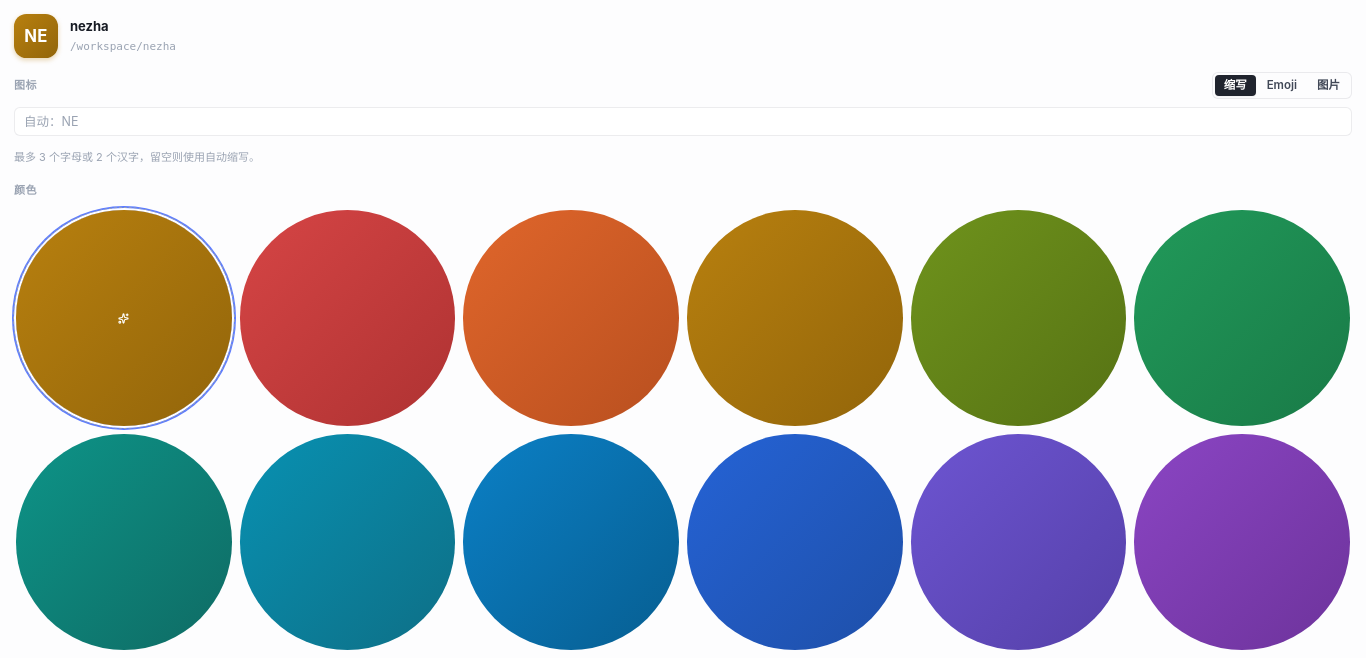
Test: ProjectAppearanceEditor › 非组合输入按显示宽度截断到 3 个字母
Type "nezha" into the field named "缩写" at (683, 122), box [14,107,1352,136]
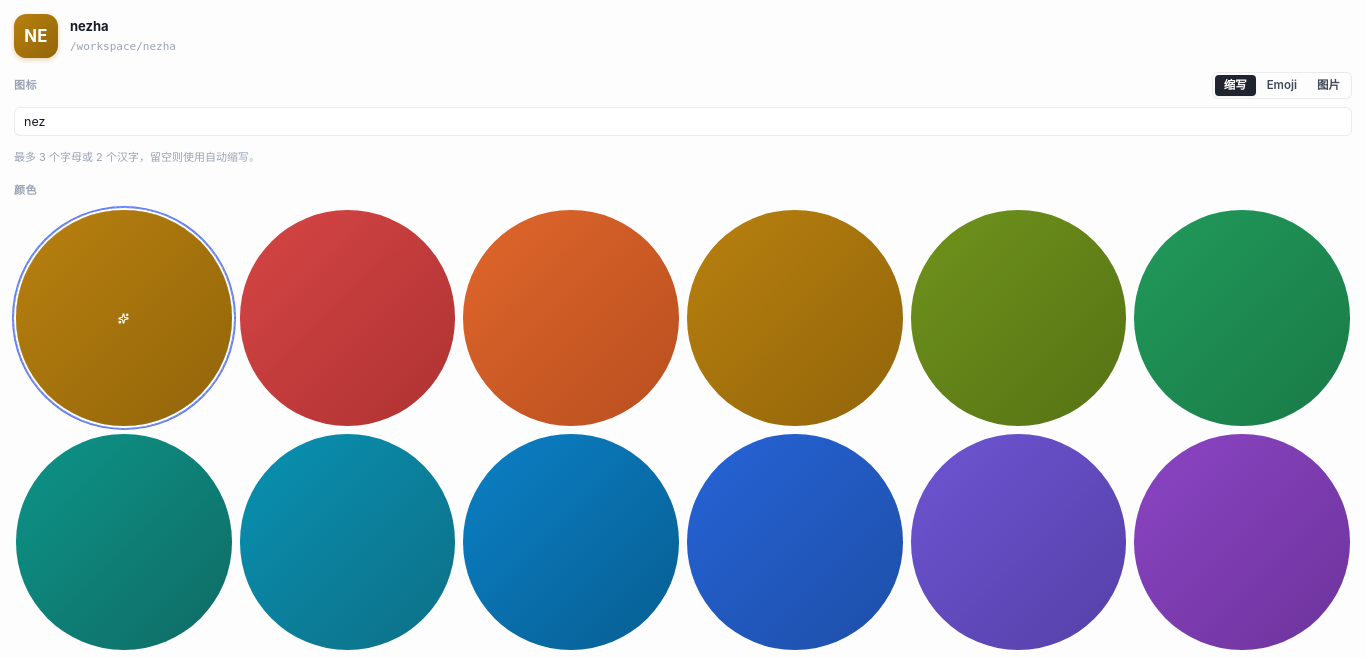
Now the field named "缩写" holds "nez", box [14,107,1352,136]
